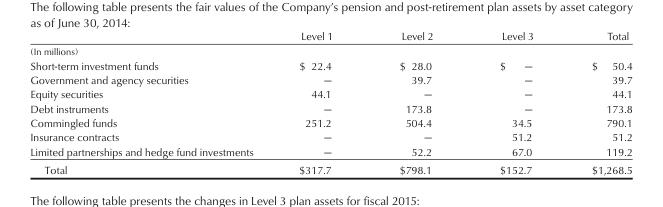table: (29, 29, 631, 176)
table column: (29, 29, 275, 176), (365, 29, 465, 176), (465, 29, 561, 176), (275, 29, 365, 176), (561, 29, 631, 176)
table column header: (29, 29, 631, 57)
table row: (29, 29, 631, 57), (29, 143, 631, 160), (29, 160, 631, 176), (29, 57, 631, 72), (29, 100, 631, 115), (29, 72, 631, 86), (29, 86, 631, 100), (29, 115, 631, 129), (29, 129, 631, 143)
